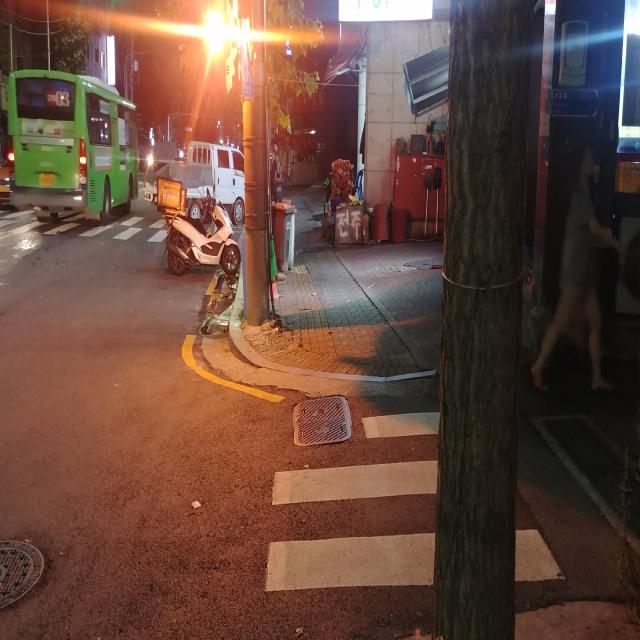횡단보도: (263, 407, 567, 595), (0, 209, 181, 249)
